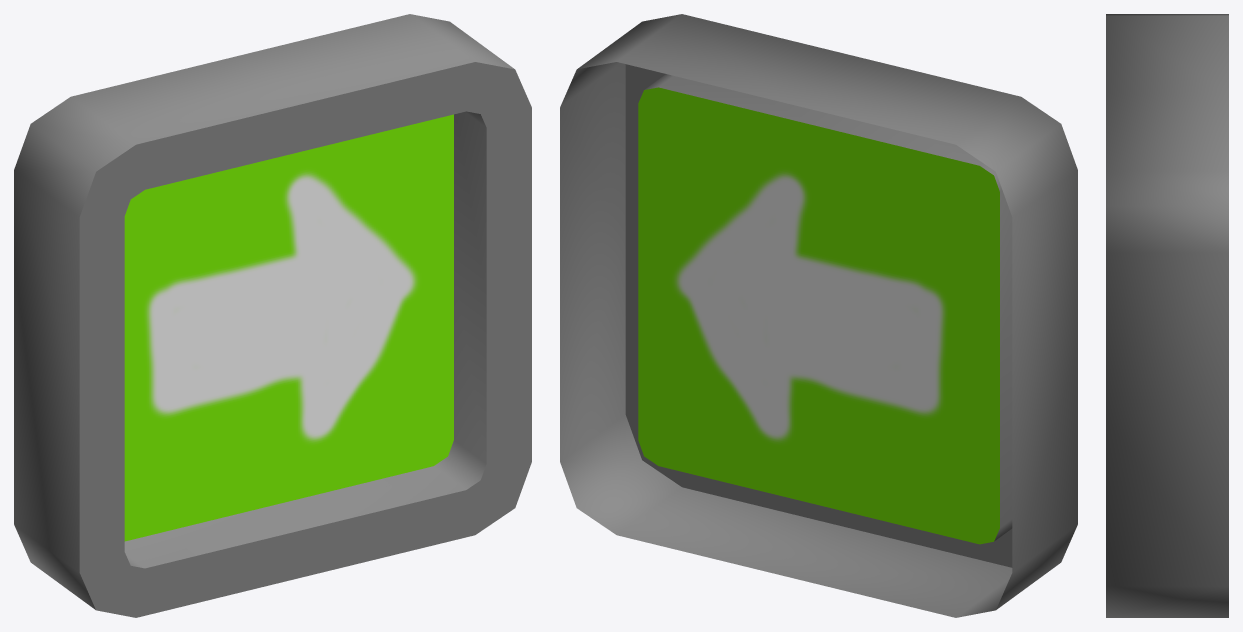
The model's file is Arrow_Straight.fbx.
3 views of the same model, side by side, from view 1: azimuth 30°, elevation 25°; view 2: azimuth 150°, elevation 25°; view 3: azimuth 270°, elevation 25° (orthographic). The views are drawn at different scales.
Visible parts, largest first — view 1: Arrow_Straight; view 2: Arrow_Straight; view 3: Arrow_Straight.
Part boxes in pixels (bbox=[...]): Arrow_Straight: bbox=[14, 14, 531, 617]; Arrow_Straight: bbox=[560, 14, 1077, 617]; Arrow_Straight: bbox=[1106, 14, 1228, 617].
Size of the model in its own units: 50 by 50 by 12.53.
